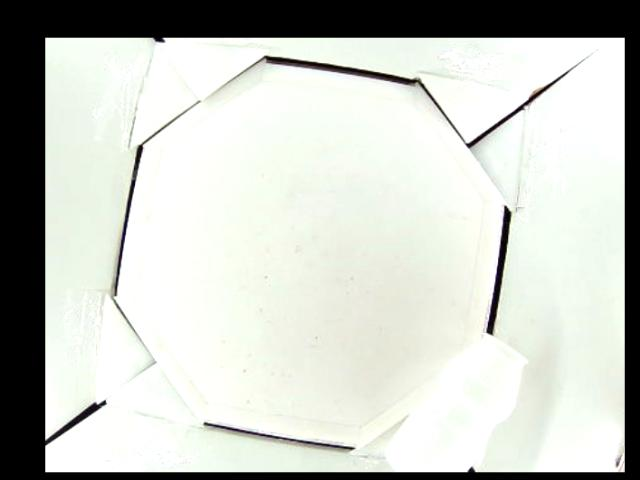Bottle: (382, 333, 530, 472)
